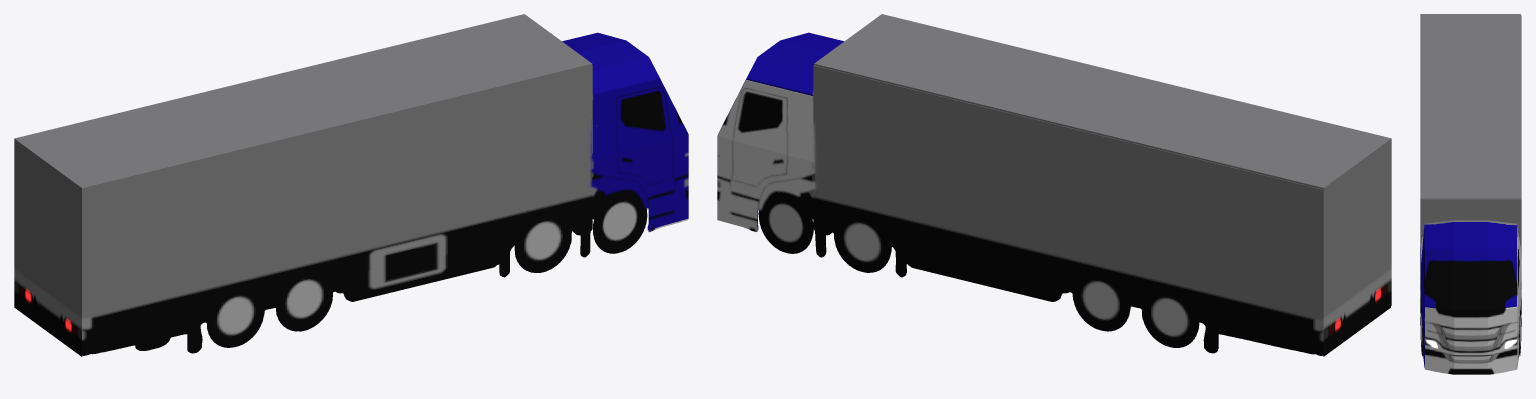
File: truck2.glb
3 views of the same model, side by side, from view 1: azimuth 30°, elevation 25°; view 2: azimuth 150°, elevation 25°; view 3: azimuth 270°, elevation 25° (orthographic). The views are drawn at different scales.
Visible parts, largest first — view 1: Cube.004, Cube; view 2: Cube, Cube.004; view 3: Cube.004, Cube.
Boxes of the visible parts, <box> form: Cube.004: <box>14,14,688,355</box>; Cube: <box>14,65,688,356</box>; Cube: <box>717,65,1390,356</box>; Cube.004: <box>720,14,1391,354</box>; Cube.004: <box>1420,14,1520,367</box>; Cube: <box>1421,15,1521,374</box>.
Size of the model in its own units: 11.84 by 3.58 by 2.25.
5 materials, 5 textured.
